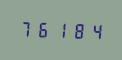eight: (69, 20, 85, 40)
four: (86, 20, 102, 41)
one: (52, 19, 68, 40)
seven: (18, 18, 34, 39)
six: (35, 19, 51, 39)
